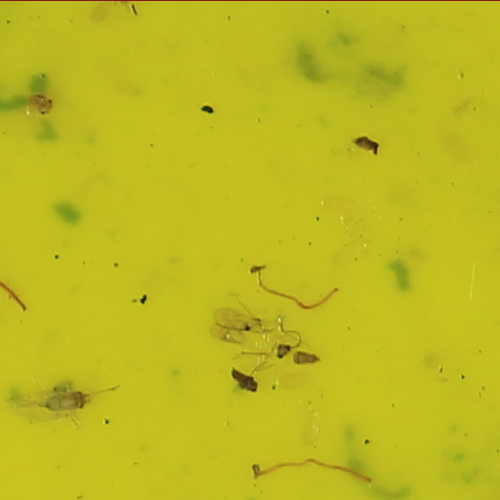Glycaspis: (42, 386, 93, 414)
